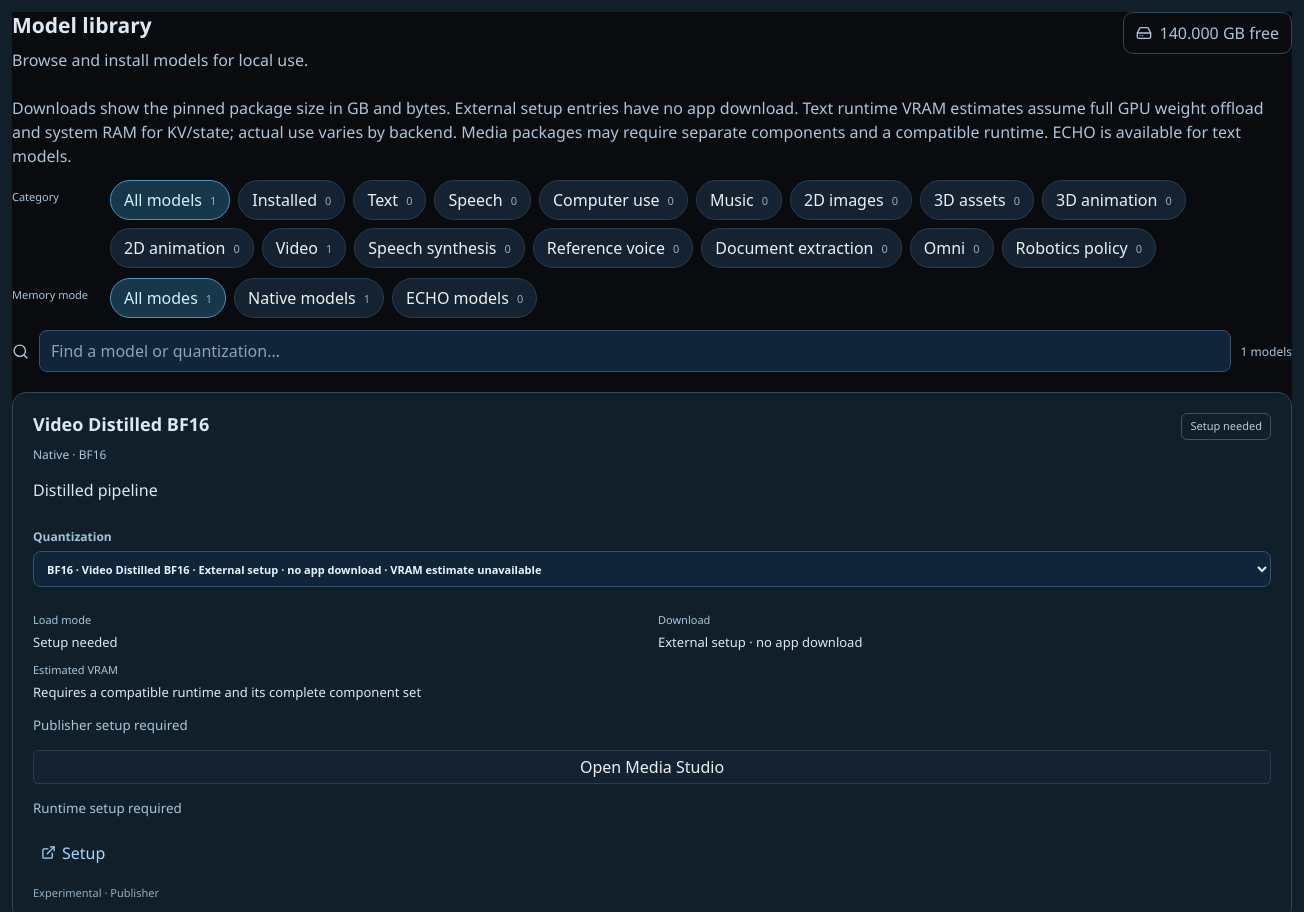
Scenario: optional model installation › selects distinct BF16 packages by ID and labels setup profiles without zero-byte downloads
Select "BF16 · Video Dev BF16 · External setup · no app download · VRAM estimate unavail" in the dropdown named "Quantization for Video" at (652, 569), box [33,551,1271,587]
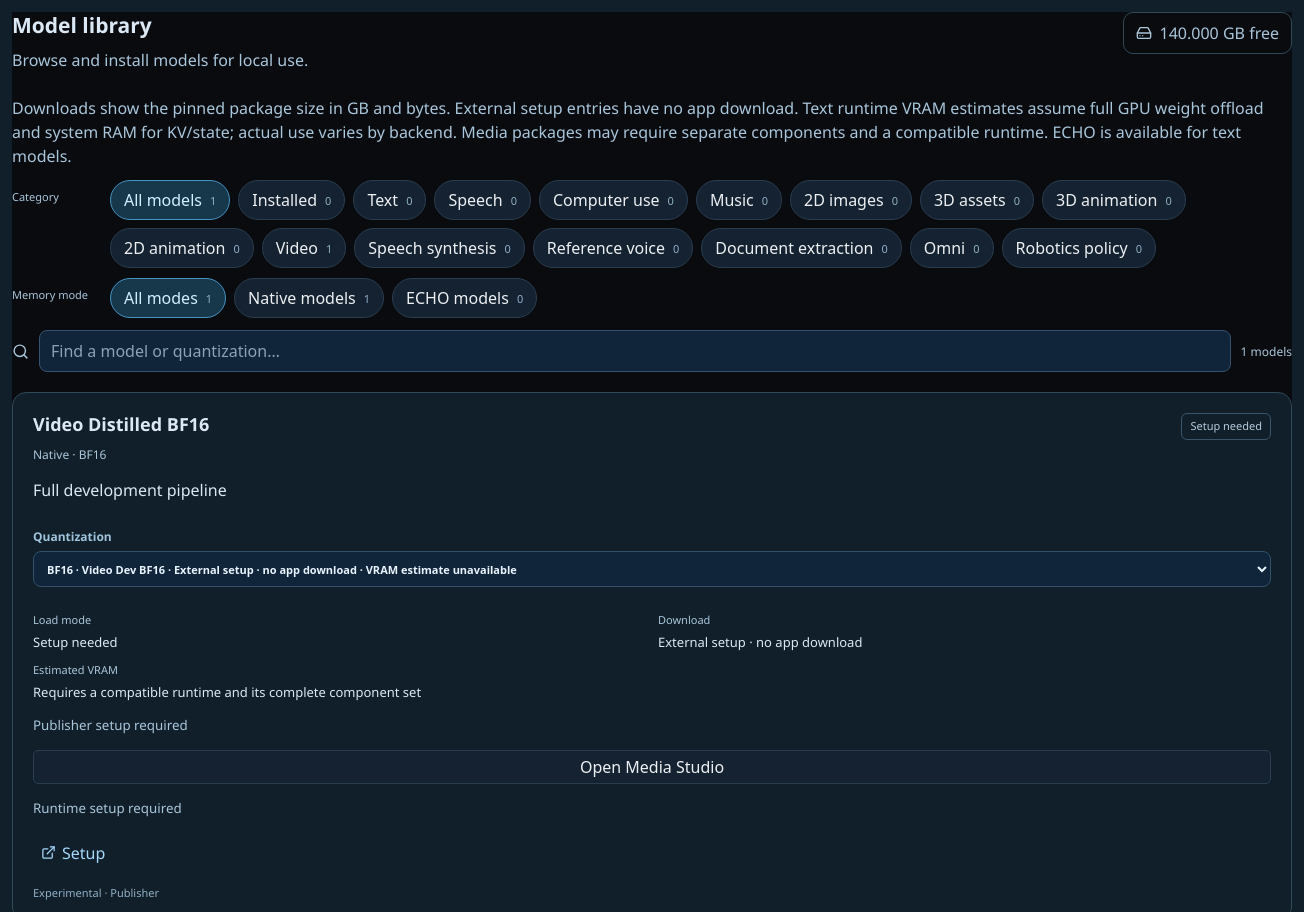
Expected: the text "Full development pipeline" is shown, [33,479,227,501]
